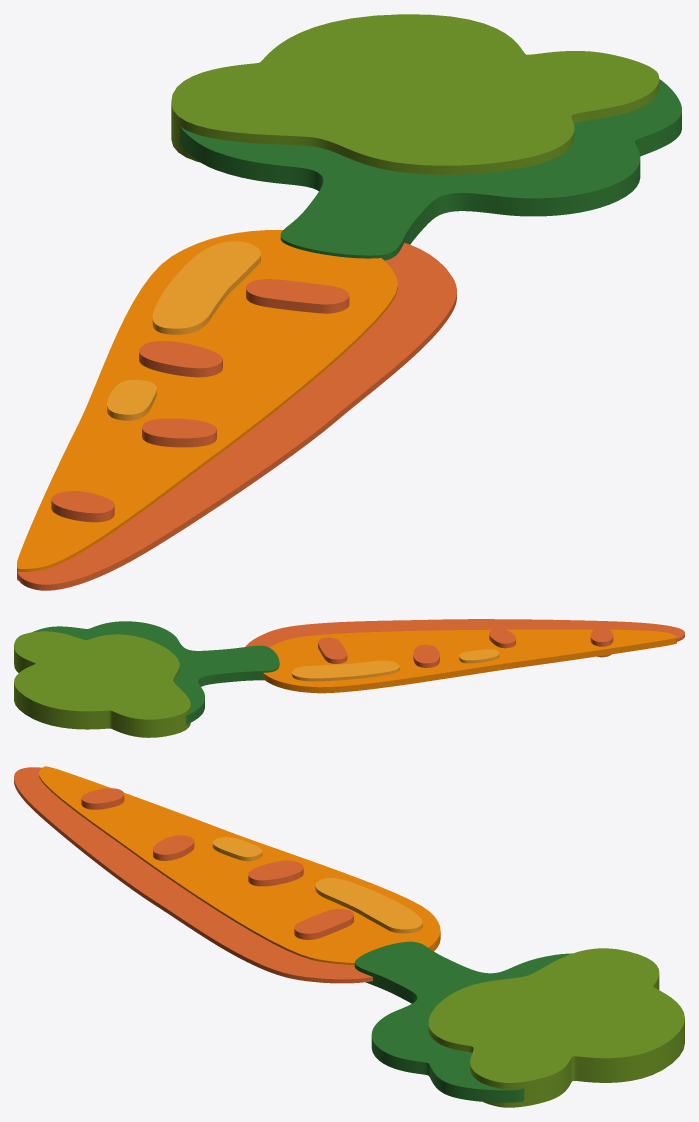
Rendered from emoji_u1f955.glb.
The picture shows the model from 3 angles, top to bottom: view 1: azimuth 30°, elevation 25°; view 2: azimuth 150°, elevation 25°; view 3: azimuth 270°, elevation 25°; orthographic projection. The views are drawn at different scales.
Parts seen in each view (by area): view 1: emoji_u1f955; view 2: emoji_u1f955; view 3: emoji_u1f955.
Boxes of the visible parts, x1,y1,x2,y2 form: emoji_u1f955: [17, 14, 681, 590]; emoji_u1f955: [14, 619, 684, 737]; emoji_u1f955: [14, 766, 684, 1107].
Size of the model in its own units: 0.0341 by 0.0012 by 0.0295.
